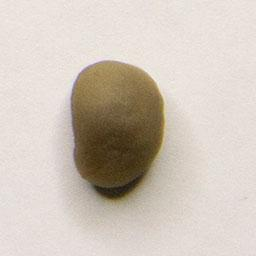peaberry: (66, 56, 169, 196)
